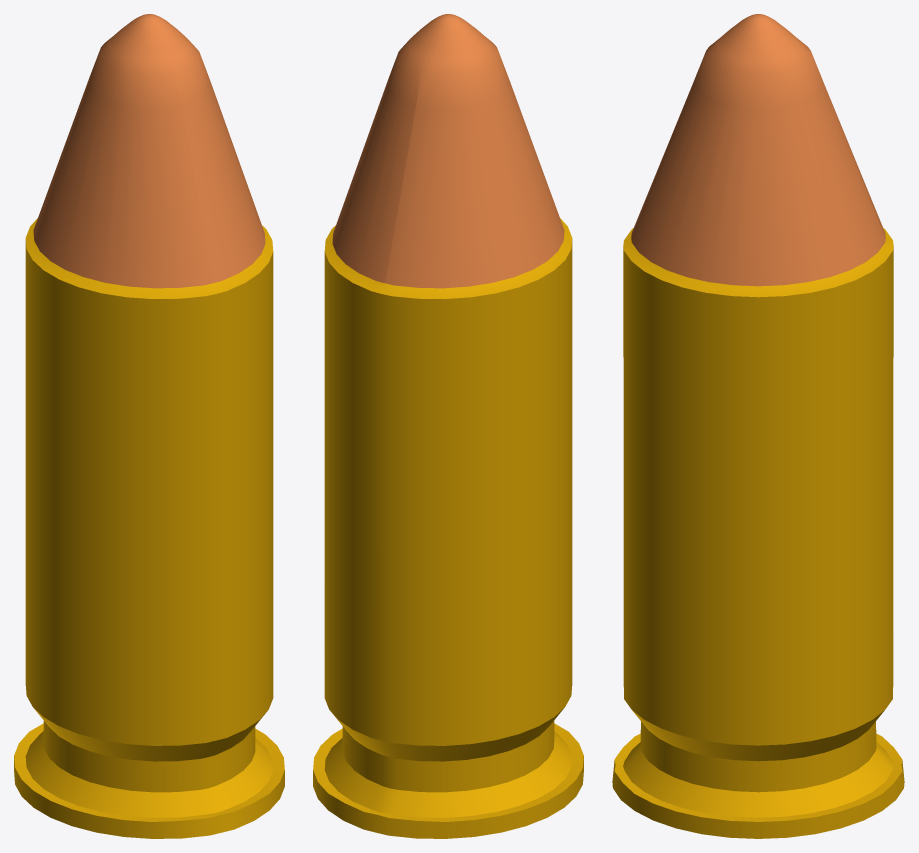
The model's file is bullet.fbx.
3 renders of one model, left to right at view 1: azimuth 30°, elevation 25°; view 2: azimuth 150°, elevation 25°; view 3: azimuth 270°, elevation 25°, orthographic.
Visible parts, largest first — view 1: Cylinder; view 2: Cylinder; view 3: Cylinder.
Part boxes in pixels (bbox=[...]): Cylinder: bbox=[14, 14, 284, 838]; Cylinder: bbox=[313, 14, 583, 838]; Cylinder: bbox=[612, 14, 904, 838].
Bounding box in the file's own units: 120 × 378 × 131.
